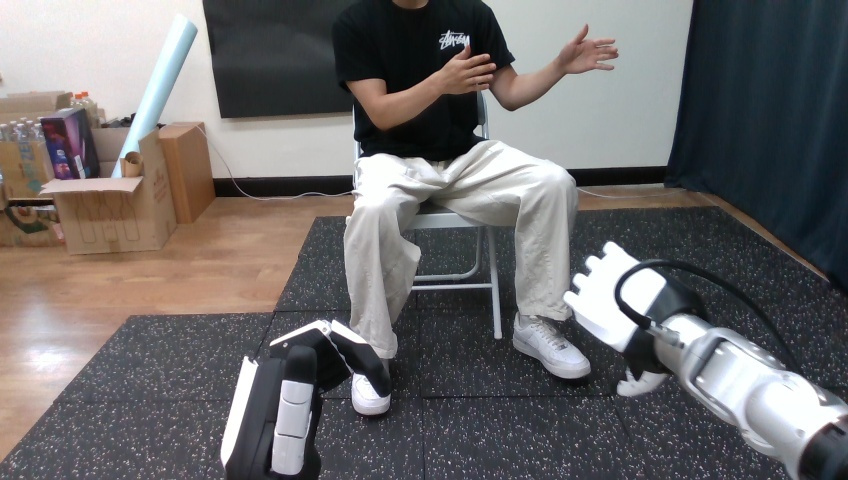left robot hand: (564, 242, 847, 478), (614, 259, 847, 479), (621, 266, 792, 372), (555, 25, 617, 74), (437, 45, 495, 94)
